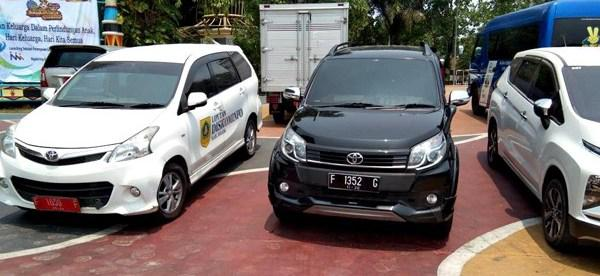plate: (327, 171, 383, 193), (34, 194, 81, 213)
